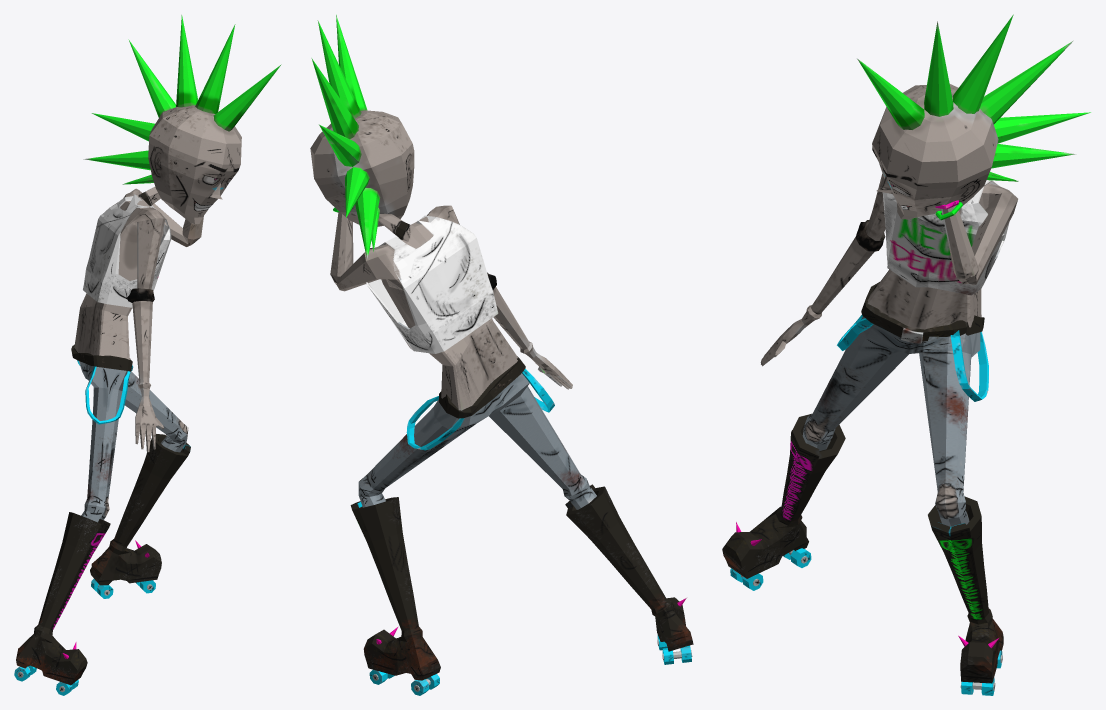
Rendered from punkAnimation_000052.obj.
3 views of the same model, side by side, from view 1: azimuth 30°, elevation 25°; view 2: azimuth 150°, elevation 25°; view 3: azimuth 270°, elevation 25° (orthographic). The views are drawn at different scales.
Parts seen in each view (by area): view 1: Cube.004_Cube.003; view 2: Cube.004_Cube.003; view 3: Cube.004_Cube.003.
Part boxes in pixels (x1,y1,x2,y2): Cube.004_Cube.003: (14,15,281,695); Cube.004_Cube.003: (310,14,693,695); Cube.004_Cube.003: (722,14,1090,695).
Size of the model in its own units: 3.66 by 6.68 by 3.11.
